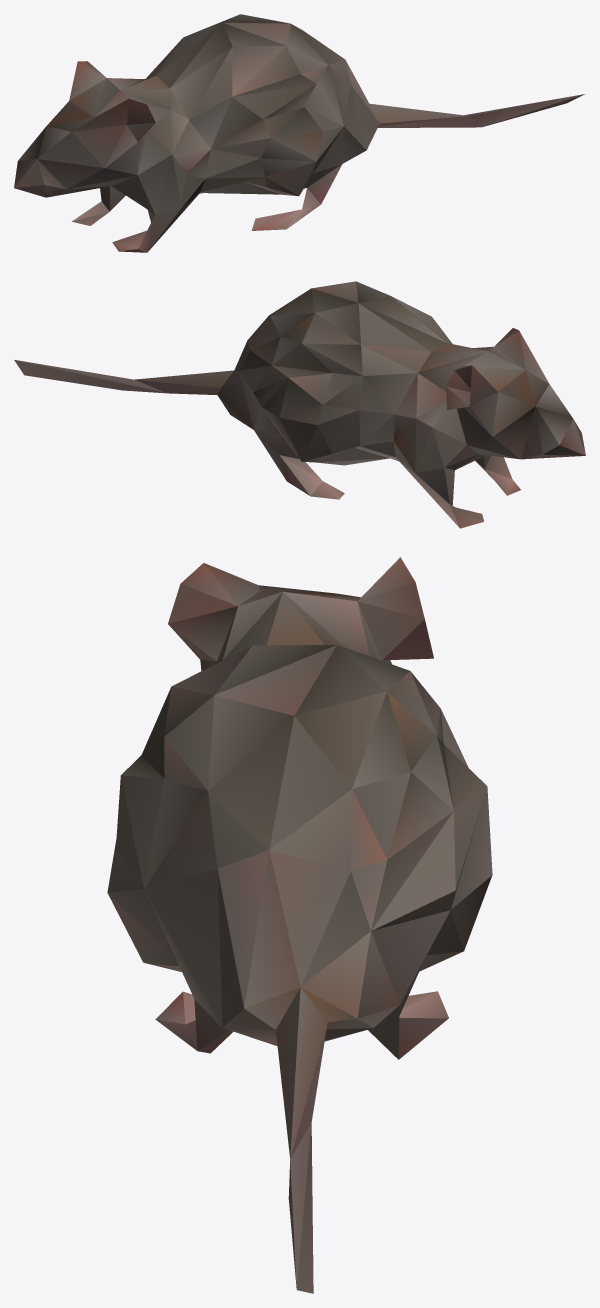
The model's file is rat_standing.glb.
3 renders of one model, top to bottom at view 1: azimuth 30°, elevation 25°; view 2: azimuth 150°, elevation 25°; view 3: azimuth 270°, elevation 25°, orthographic. The views are drawn at different scales.
Parts seen in each view (by area): view 1: rat_standing; view 2: rat_standing; view 3: rat_standing.
Part boxes in pixels (bbox=[...]): rat_standing: bbox=[14, 14, 584, 252]; rat_standing: bbox=[14, 281, 585, 528]; rat_standing: bbox=[107, 557, 492, 1293].
Bounding box in the file's own units: 1.05 × 0.3184 × 0.3073.
